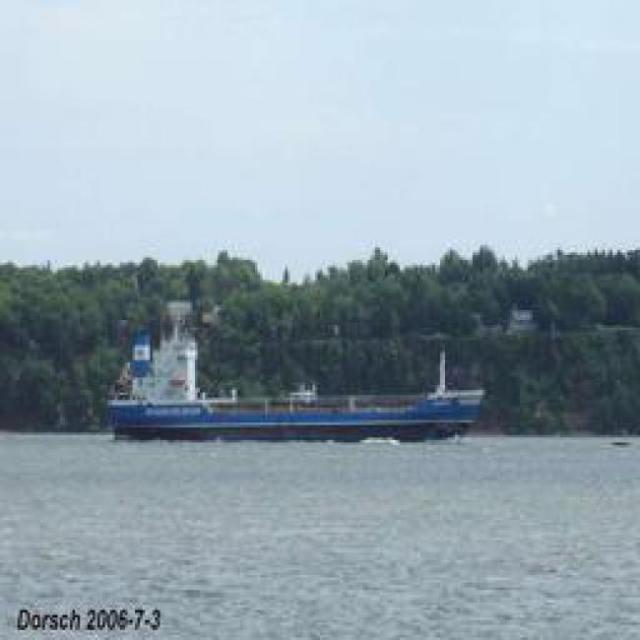boat: (107, 315, 490, 440)
